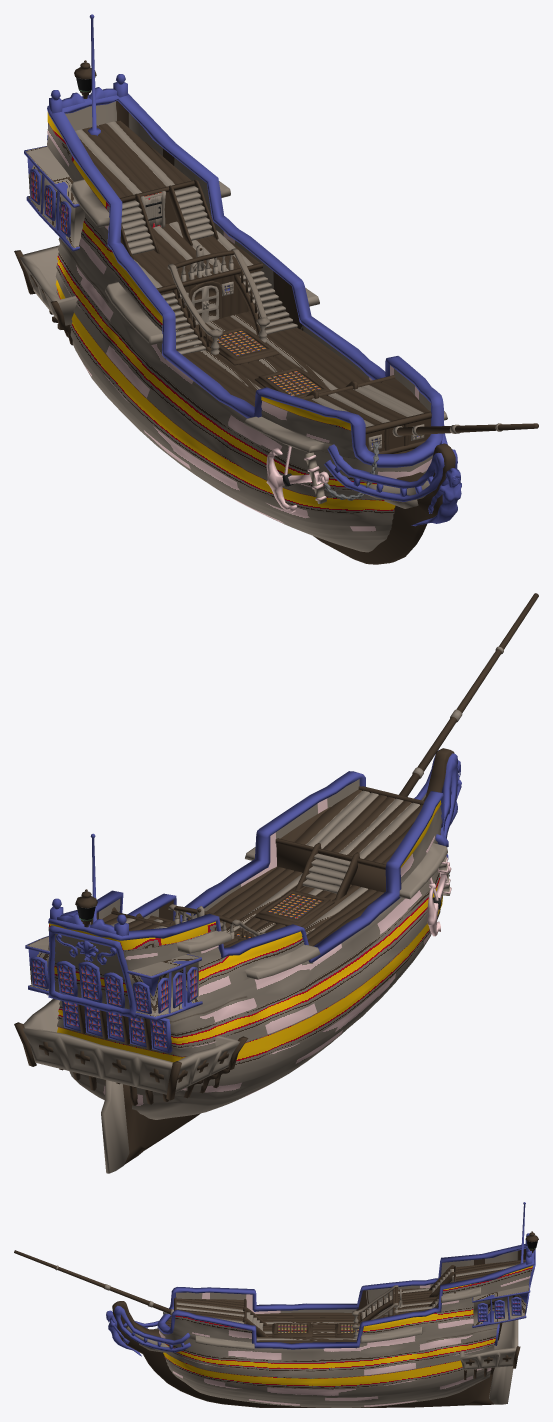
Rendered from SM_Veh_Boat_Warship_01_Hull_Bare.glb.
3 renders of one model, top to bottom at view 1: azimuth 30°, elevation 25°; view 2: azimuth 150°, elevation 25°; view 3: azimuth 270°, elevation 25°, orthographic. The views are drawn at different scales.
Visible parts, largest first — view 1: SM_Veh_Boat_Warship_01_Hull_Bare_00; view 2: SM_Veh_Boat_Warship_01_Hull_Bare_00; view 3: SM_Veh_Boat_Warship_01_Hull_Bare_00.
Part boxes in pixels (left/top/right/bottom): SM_Veh_Boat_Warship_01_Hull_Bare_00: left=14, top=14, right=538, bottom=564; SM_Veh_Boat_Warship_01_Hull_Bare_00: left=14, top=593, right=538, bottom=1173; SM_Veh_Boat_Warship_01_Hull_Bare_00: left=14, top=1202, right=538, bottom=1407.
Size of the model in its own units: 9.57 by 17.15 by 39.75.
1 material, 1 textured.
